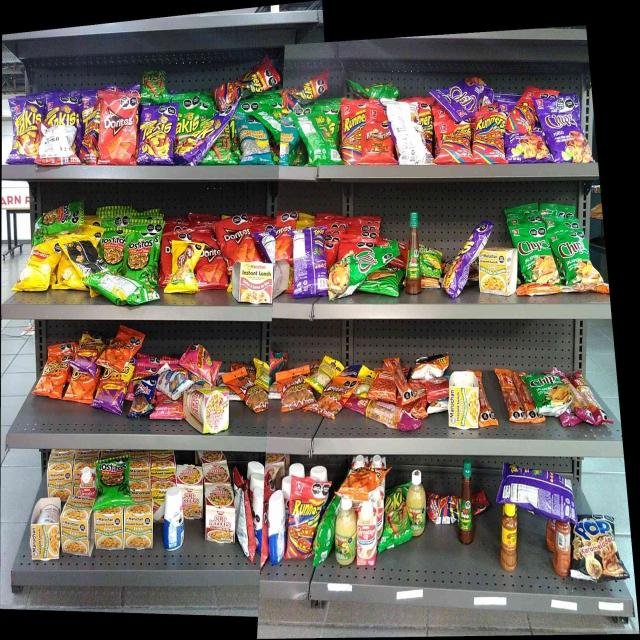bitzEnchilado95: (517, 282, 609, 296), (498, 368, 520, 423)
bitzHabanero: (349, 400, 416, 430), (573, 372, 596, 426)
bokadosCacahuates: (133, 380, 152, 414)
botaneraChilito: (501, 505, 516, 569)
cheetosFlaminHot: (74, 332, 102, 370), (98, 374, 123, 412)
cheetosOriginal: (42, 353, 66, 398), (105, 332, 132, 364), (348, 467, 381, 493), (69, 374, 94, 404)
chipsFuego: (551, 97, 582, 164), (443, 78, 490, 109), (507, 134, 549, 162)
chipsJalapeno: (553, 221, 596, 279), (515, 226, 549, 279), (536, 375, 566, 416), (330, 253, 359, 295)
chipsPapatinas: (424, 245, 441, 279)
churrumais: (189, 343, 218, 381), (154, 398, 183, 420)
delPrimoSalsa: (335, 498, 357, 565), (408, 468, 424, 536)
doritosNacho: (100, 90, 138, 161), (198, 232, 221, 288), (222, 218, 252, 260), (276, 212, 292, 260)
fritosLimon: (171, 240, 196, 294)
leoCacahuates: (162, 370, 186, 396)
leoMix: (282, 369, 308, 407), (310, 392, 344, 418), (240, 387, 266, 413)
maruchanPollo: (62, 499, 92, 557), (448, 389, 480, 429), (479, 250, 507, 294), (126, 505, 153, 550), (94, 511, 124, 551), (31, 523, 58, 559)
maruchanRes: (242, 263, 272, 303)
nestleCarnation: (358, 499, 377, 567), (79, 467, 96, 497)
nestleLechera: (268, 492, 284, 563), (166, 489, 183, 549)
nissinCamaron: (190, 387, 229, 432)
nissinRes: (205, 483, 234, 544)
popKarameladas: (574, 514, 617, 578)
productoAtras: (504, 463, 574, 500), (294, 230, 324, 292), (392, 102, 419, 165), (298, 117, 334, 164), (62, 232, 100, 270), (44, 128, 76, 166), (237, 490, 254, 559), (98, 274, 124, 300)
rancheritos: (363, 128, 391, 164)
rufflesQueso: (368, 269, 400, 298)
runners: (290, 477, 314, 560), (474, 114, 504, 165), (438, 124, 470, 165), (341, 102, 361, 165), (214, 75, 273, 95), (428, 493, 457, 525), (80, 118, 98, 164), (508, 106, 536, 132), (285, 79, 315, 103), (421, 108, 434, 148)
sabritasOriginal: (27, 240, 53, 291)
salsaBufalo: (405, 212, 420, 294), (461, 464, 473, 541)
semillasCalabaza: (313, 356, 329, 390), (255, 357, 269, 385)
semillasGirasol: (240, 122, 269, 166), (281, 121, 294, 166)
tajinDulce: (554, 521, 570, 575)
takisFuego: (140, 105, 174, 164), (448, 236, 474, 296), (13, 99, 40, 156), (47, 94, 77, 125)
takisOriginal: (383, 488, 405, 548), (142, 71, 168, 104), (213, 133, 237, 164), (176, 96, 194, 137)
tostitos: (126, 228, 152, 280), (97, 459, 127, 503), (38, 202, 80, 229), (101, 228, 124, 270)
